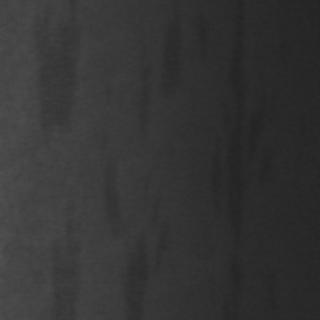inclusion: (208, 0, 272, 308), (98, 147, 166, 315), (27, 0, 81, 126), (41, 192, 84, 316), (152, 0, 192, 100), (130, 60, 154, 144)
